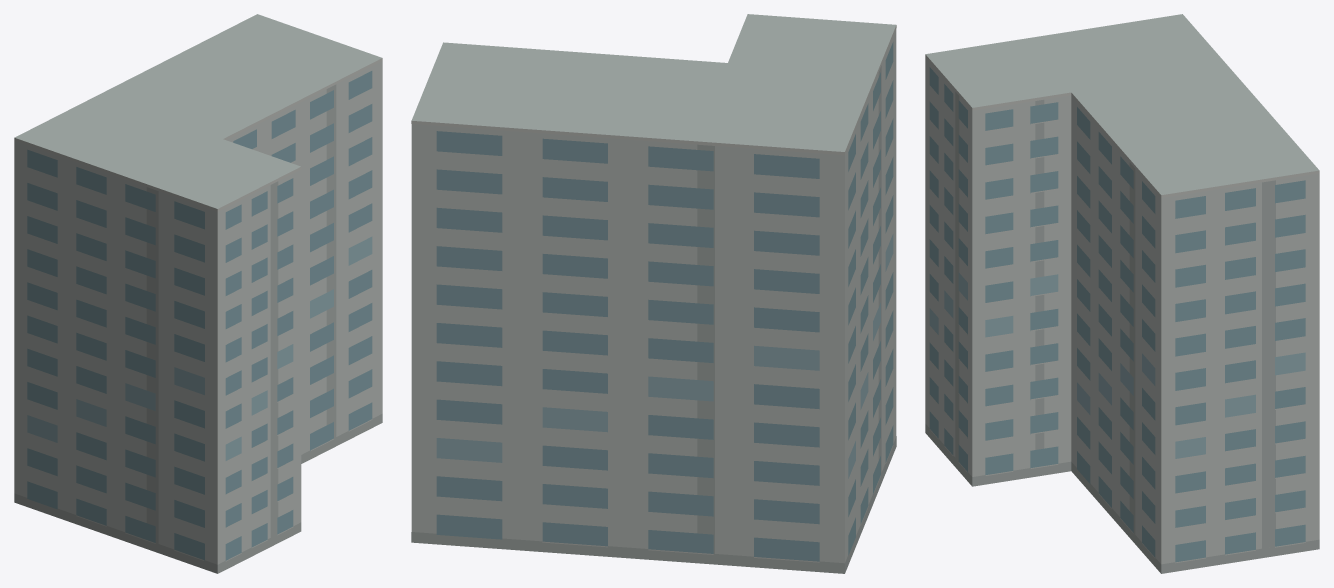
Rendered from residential-d323a5f3-dbf0-4bf5-8b2d-a0a8148d0cdf.glb.
The picture shows the model from 3 angles, left to right: view 1: azimuth 30°, elevation 25°; view 2: azimuth 150°, elevation 25°; view 3: azimuth 270°, elevation 25°; orthographic projection. The views are drawn at different scales.
Parts seen in each view (by area): view 1: residential-d323a5f3-dbf0-4bf5-8b2d-a0a8148d0cdf.tmp; view 2: residential-d323a5f3-dbf0-4bf5-8b2d-a0a8148d0cdf.tmp; view 3: residential-d323a5f3-dbf0-4bf5-8b2d-a0a8148d0cdf.tmp.
Part boxes in pixels (x1,y1,x2,y2): residential-d323a5f3-dbf0-4bf5-8b2d-a0a8148d0cdf.tmp: (14, 14, 382, 573); residential-d323a5f3-dbf0-4bf5-8b2d-a0a8148d0cdf.tmp: (411, 14, 896, 573); residential-d323a5f3-dbf0-4bf5-8b2d-a0a8148d0cdf.tmp: (925, 14, 1319, 573).
Size of the model in its own units: 31.82 by 31 by 29.25.
